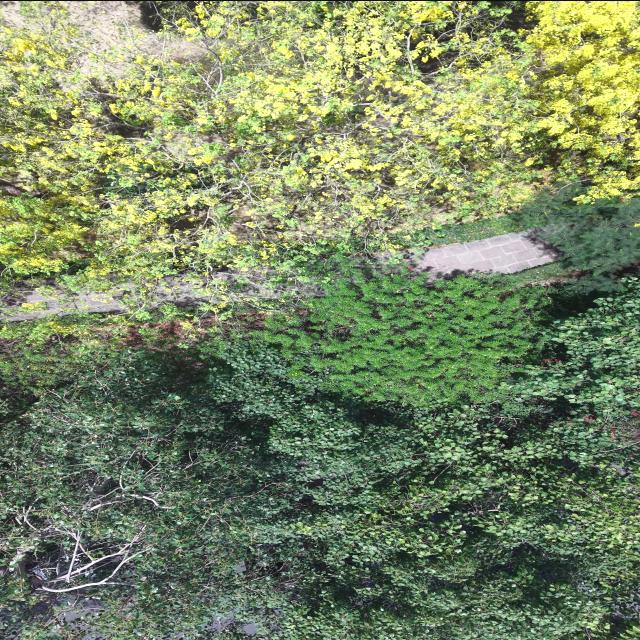DRY_AREA: (0, 1, 206, 78), (55, 1, 204, 77), (410, 230, 560, 278)
PATHWAYS: (409, 230, 559, 278), (414, 230, 560, 277)
VEGETATION_TREE: (0, 1, 639, 639), (2, 293, 639, 639), (0, 1, 639, 288), (2, 1, 545, 280), (260, 274, 545, 405), (423, 182, 639, 291), (514, 283, 639, 445), (518, 186, 639, 291), (534, 198, 639, 274)
